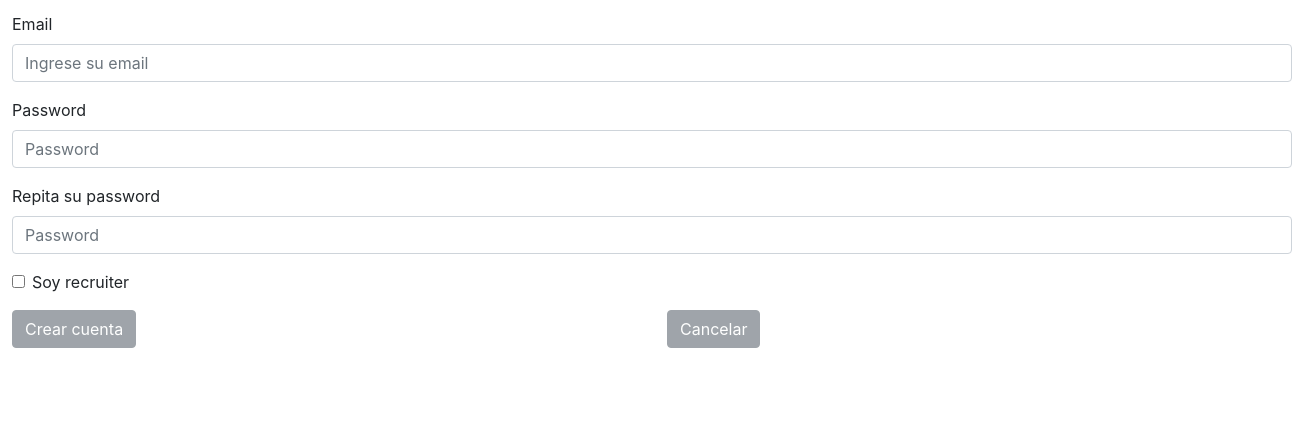
Test: The registration form › shows an error message when password does not match
In the field labelled "Email": (652, 63) [12, 44, 1292, 82], type "a@b.com"
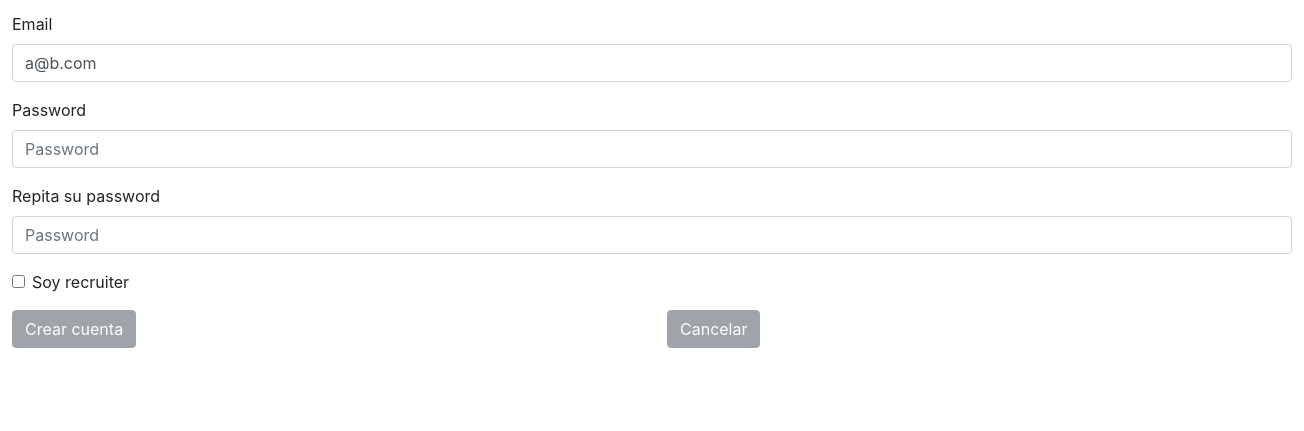
In the password field labelled "Password": (652, 149) [12, 130, 1292, 168], type "tritri"
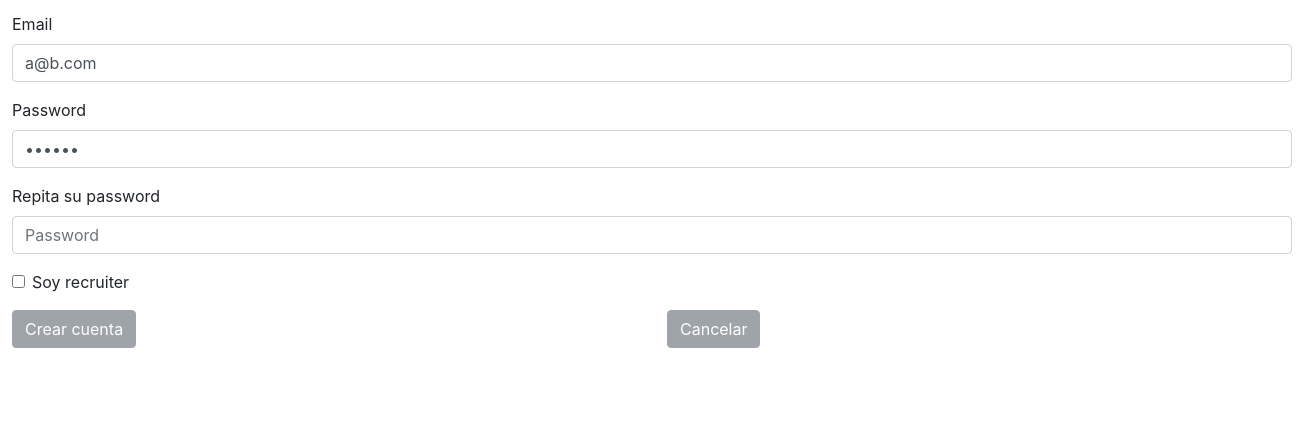
In the password field labelled "Repita su password": (652, 235) [12, 216, 1292, 254], type "otro"
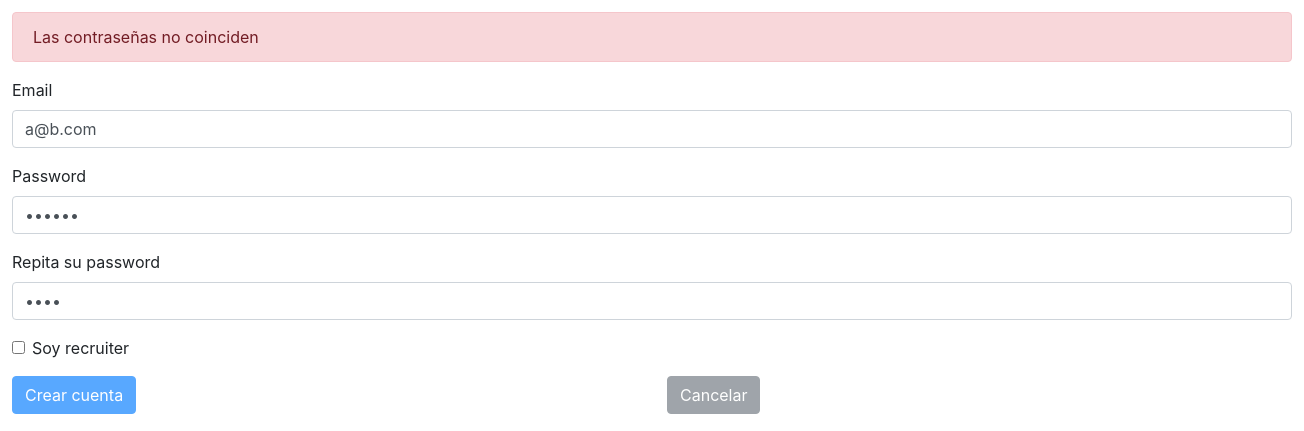
Expected: the button "Crear cuenta" is disabled, [12, 376, 136, 414]
Expected: the message "Las contraseñas no coinciden" is shown, [12, 12, 1292, 62]
